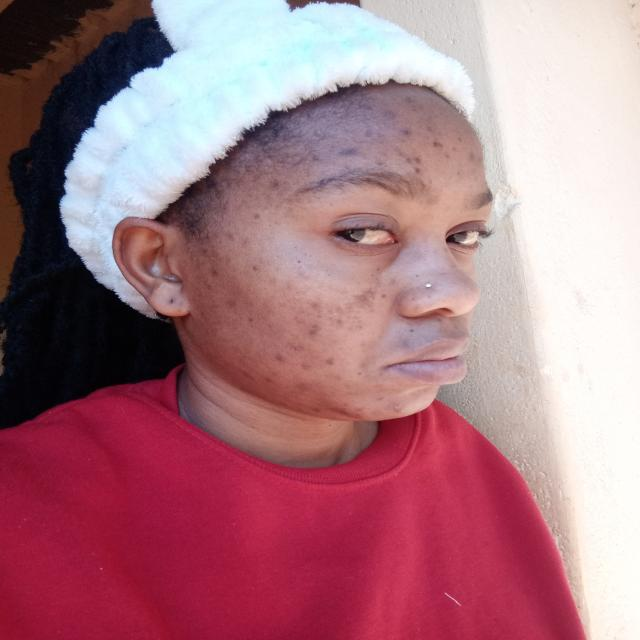Acne: (352, 284, 378, 307), (343, 302, 362, 331), (335, 146, 363, 159), (404, 155, 423, 173), (224, 297, 241, 310), (382, 107, 398, 120), (306, 323, 322, 336), (267, 178, 284, 190), (324, 355, 339, 368), (307, 299, 324, 310), (443, 146, 458, 158), (332, 406, 352, 415), (388, 403, 403, 414), (306, 153, 324, 162), (288, 343, 306, 352), (272, 352, 286, 363), (294, 382, 309, 392), (401, 96, 419, 104), (354, 406, 366, 418), (386, 276, 399, 287), (363, 129, 376, 139), (226, 230, 236, 243), (333, 316, 346, 326), (299, 362, 312, 372), (431, 142, 445, 151), (399, 126, 411, 136), (249, 211, 261, 221), (331, 305, 345, 313), (262, 377, 275, 385), (380, 292, 390, 302), (332, 374, 342, 384), (425, 123, 434, 134), (249, 264, 261, 272), (243, 236, 251, 248), (200, 247, 209, 256), (456, 134, 464, 144), (212, 268, 220, 277), (312, 406, 322, 413), (470, 150, 476, 161), (377, 395, 386, 402), (365, 105, 373, 112)
